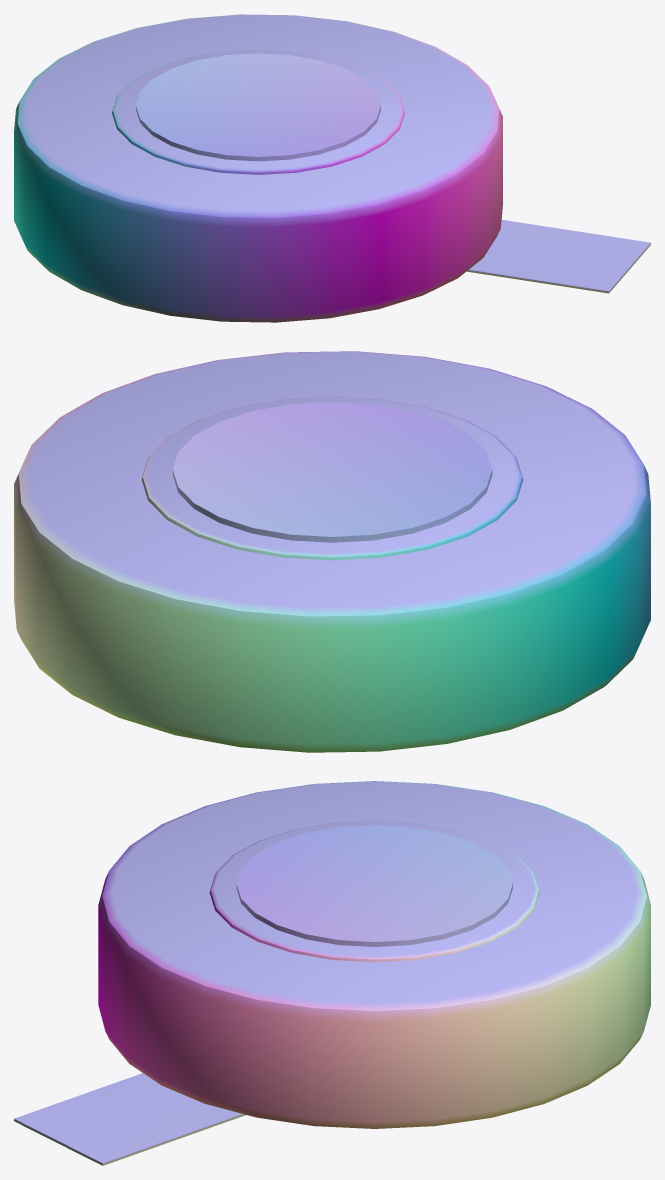
Rendered from env_deco_tape.glb.
The picture shows the model from 3 angles, top to bottom: view 1: azimuth 30°, elevation 25°; view 2: azimuth 150°, elevation 25°; view 3: azimuth 270°, elevation 25°; orthographic projection. The views are drawn at different scales.
Parts seen in each view (by area): view 1: env_deco_tape_mesh; view 2: env_deco_tape_mesh; view 3: env_deco_tape_mesh.
Boxes of the visible parts, x1,y1,x2,y2 form: env_deco_tape_mesh: [14, 14, 650, 322]; env_deco_tape_mesh: [14, 351, 650, 752]; env_deco_tape_mesh: [14, 781, 650, 1165].
Bounding box in the file's own units: 0.4562 × 0.11 × 0.4611.
